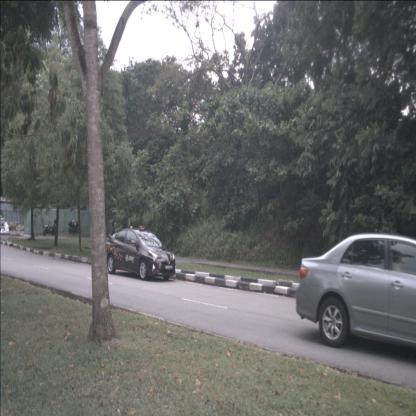human-pedestrian-adult: (128, 219, 133, 260), (111, 220, 116, 260)
vehicle-car: (296, 233, 416, 351), (104, 227, 176, 280)
vehicle-motorcycle: (42, 218, 58, 236), (68, 221, 78, 234), (72, 222, 82, 235)
